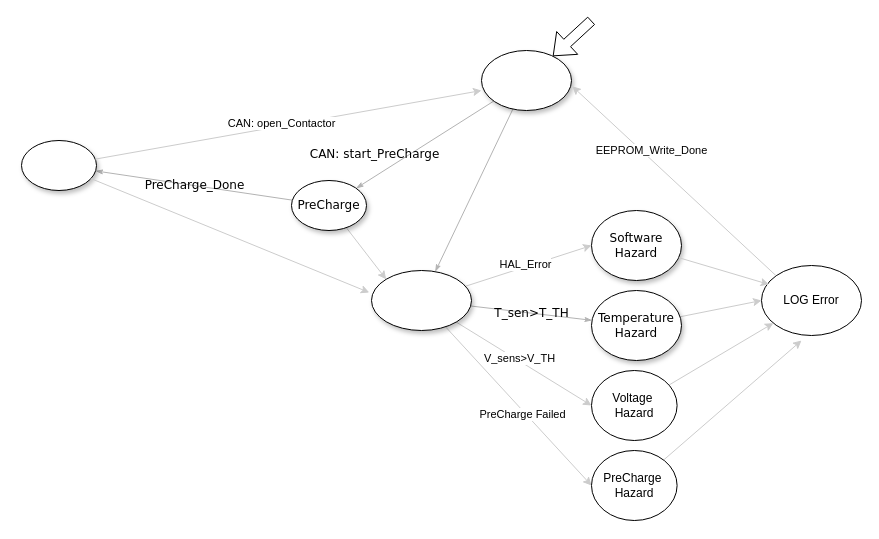
Image size: 879x539. Some labels were removed from this diagram. The shapes that lost their labels are listed below. From the top down, each one's centre as x and y in pixels, then its label:
the point at 527,82: Contactor Open
the point at 59,167: Contactor Close
the point at 422,302: Error
